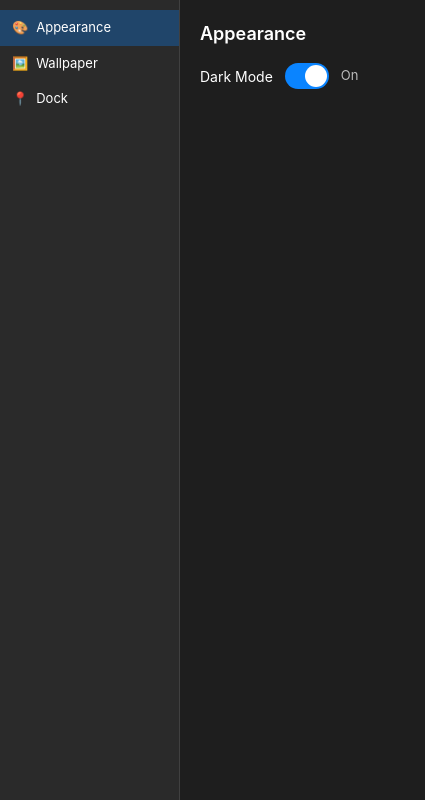
Scenario: SystemSettings › shows Dock section with magnification toggle and icon size buttons
The width and height of the screenshot is (425, 800).
Click the element with test id "settings-section-dock".
click(40, 98)  # box left=12, top=90, right=68, bottom=106
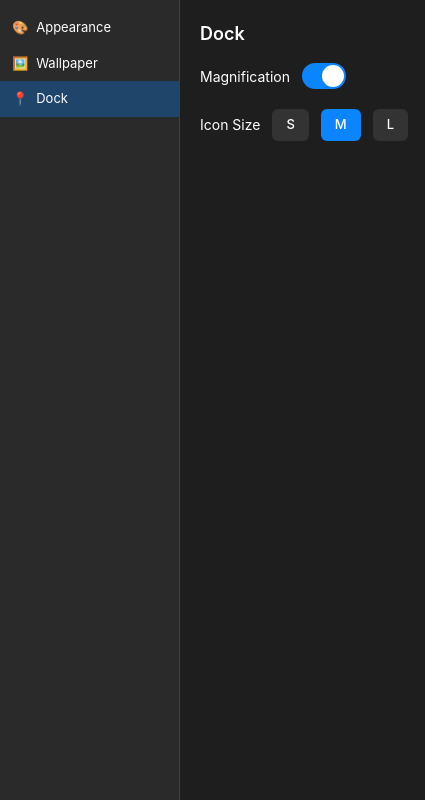
Result: the element with test id "settings-dock" is shown at left=200, top=23, right=408, bottom=140
Result: the button with test id "dock-magnification-toggle" is shown at left=302, top=63, right=346, bottom=89
Result: the button with test id "dock-size-S" is shown at left=272, top=109, right=309, bottom=140
